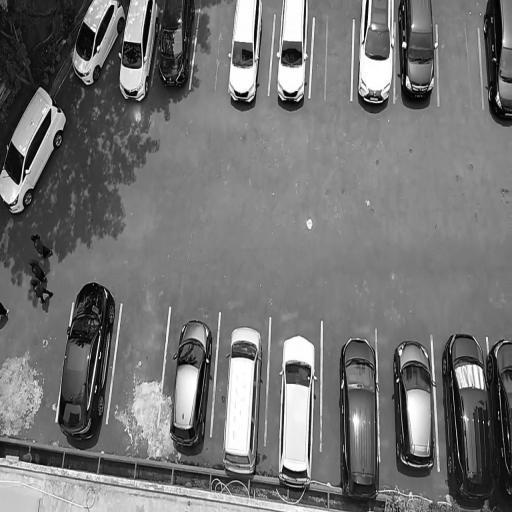Car: (56, 278, 116, 441), (439, 328, 495, 502), (1, 77, 68, 222), (338, 329, 384, 508), (392, 336, 441, 474), (222, 323, 266, 476), (279, 329, 314, 489), (169, 308, 208, 445), (68, 0, 122, 94), (225, 0, 266, 113), (357, 0, 396, 116), (275, 0, 311, 118), (399, 0, 434, 112), (489, 327, 512, 495), (117, 0, 156, 99), (482, 0, 512, 124), (157, 0, 192, 94)
Space Available: (121, 294, 157, 441), (441, 15, 478, 123), (316, 9, 350, 106), (199, 0, 227, 92)
